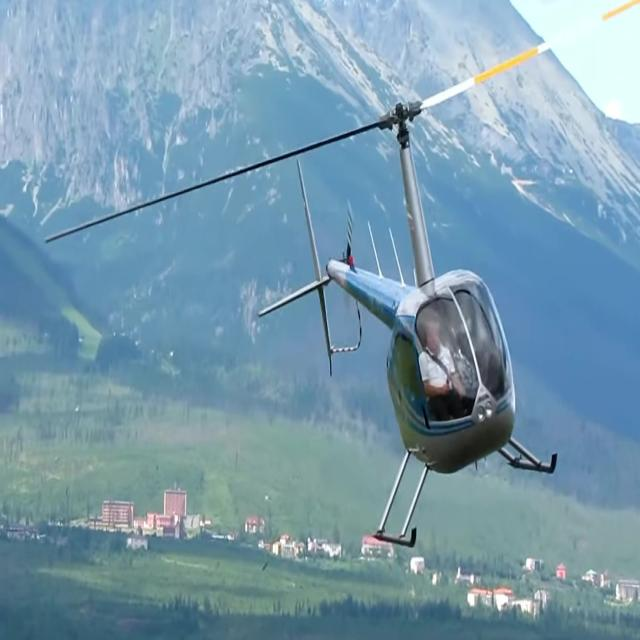CIV_HELO: (254, 96, 559, 553)
